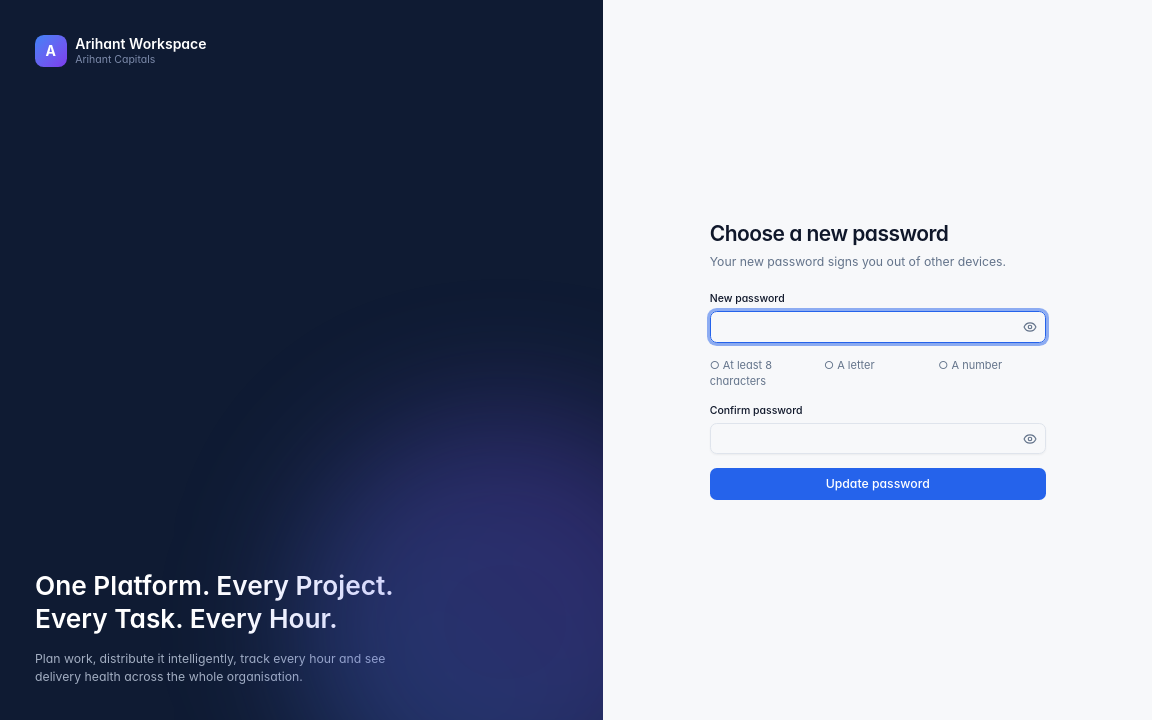
Test case: ResetPasswordPage › submits the token with the new password
Type "GoodPassw0rd" into the password field labelled "New password".
click(878, 327); type("GoodPassw0rd")  # box [710,311,1046,343]
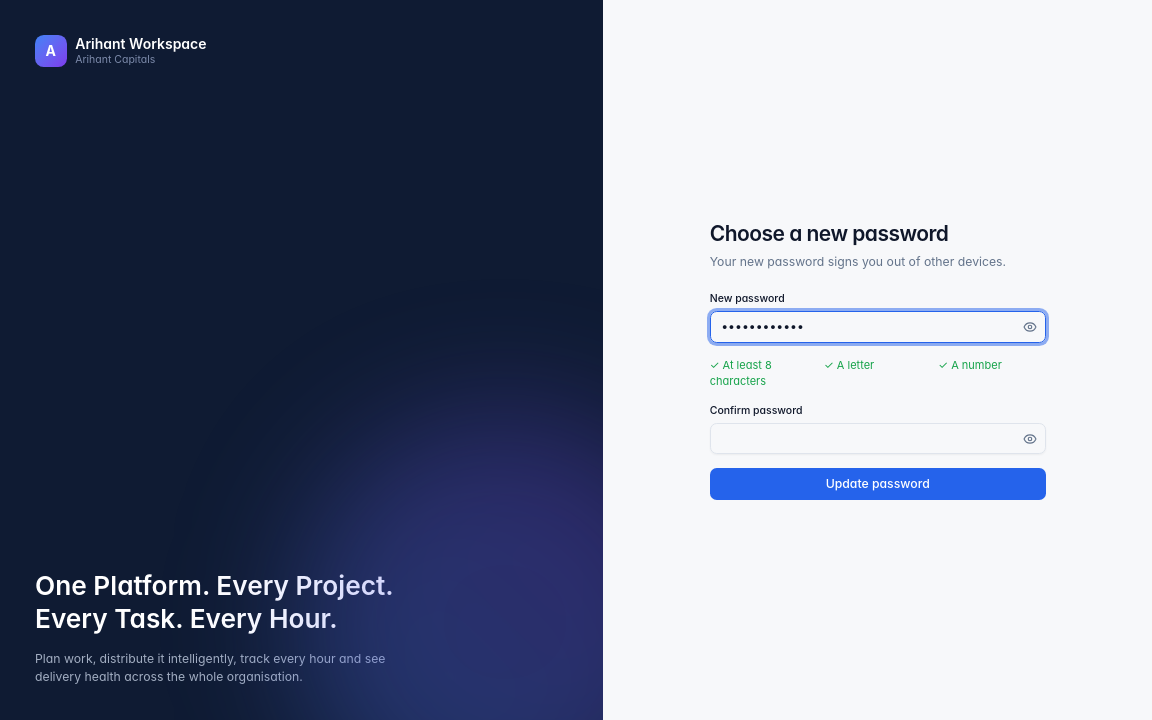
Type "GoodPassw0rd" into the password field labelled "Confirm password".
click(878, 439); type("GoodPassw0rd")  # box [710,423,1046,454]
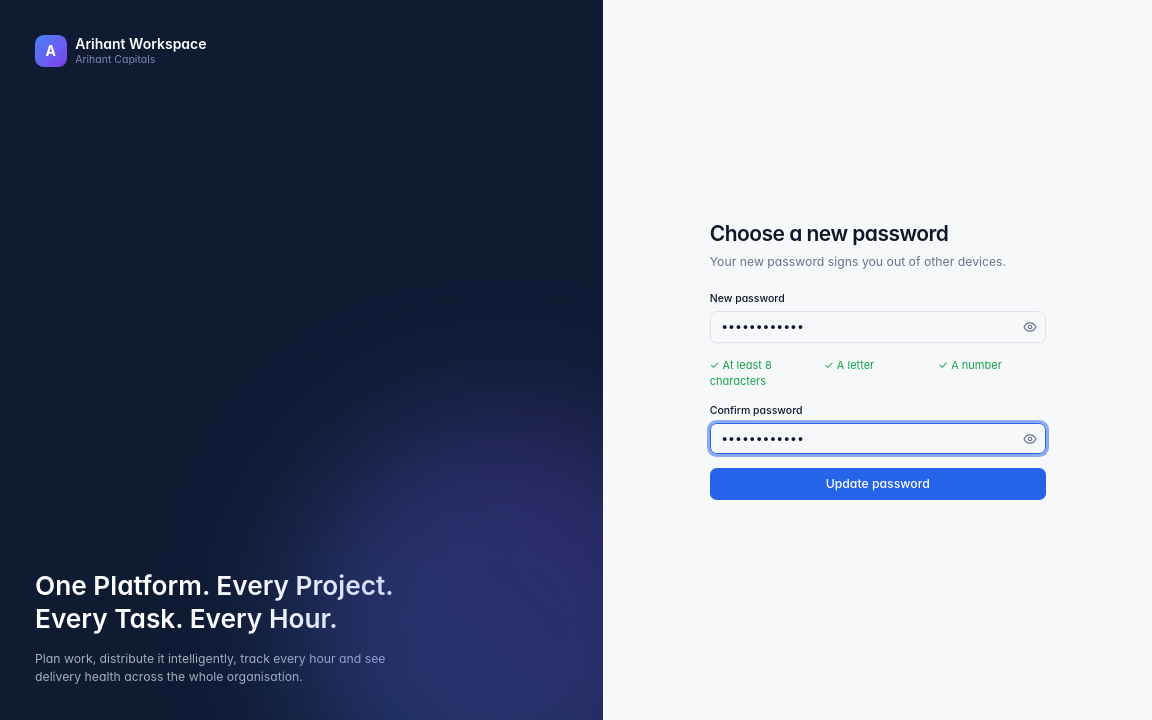
Click the button "Update password".
click(878, 484)  # box [710,468,1046,500]
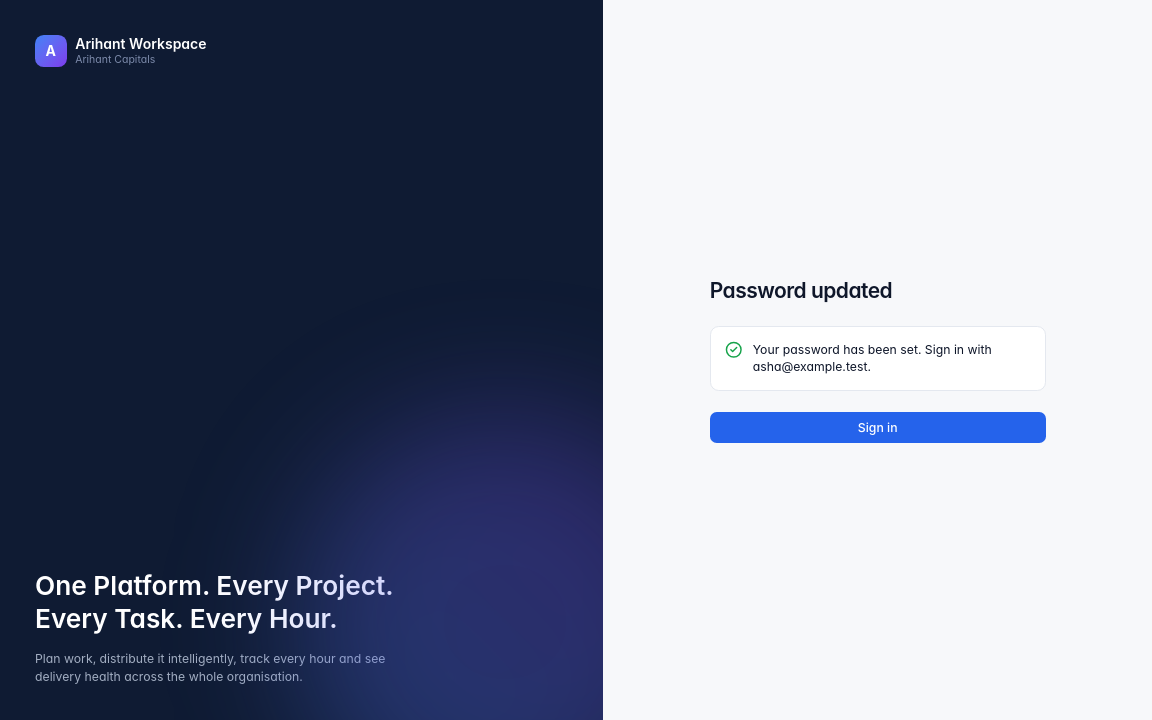
Expected: the text "Your password has been set. Sign in with asha@example.test." is shown, [753,341,1031,376]
